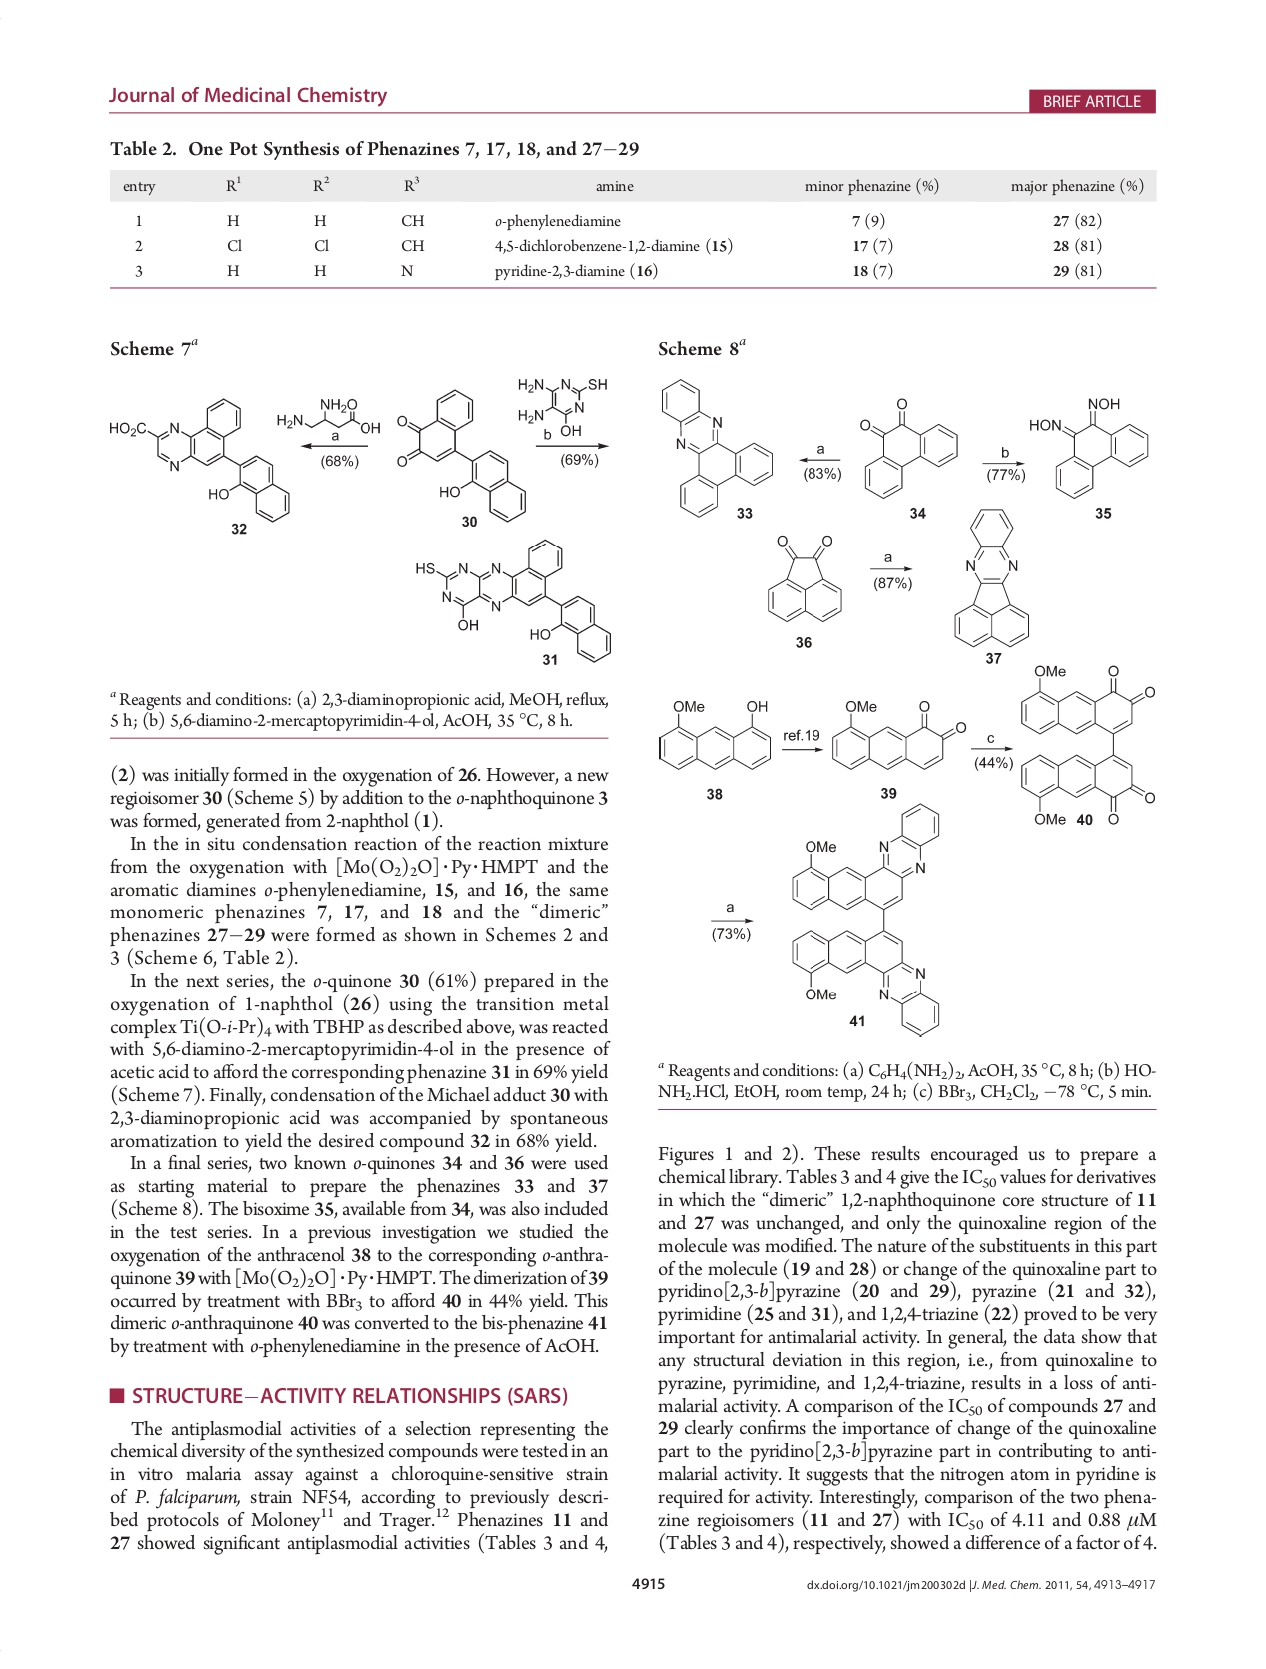exist_molecular: (790, 801, 946, 1041), (414, 535, 613, 666), (1015, 662, 1158, 829), (108, 396, 290, 524), (396, 387, 529, 524), (658, 374, 774, 519), (1027, 394, 1152, 501), (951, 505, 1035, 648), (826, 693, 969, 775), (855, 394, 961, 500), (650, 696, 775, 777), (761, 531, 851, 626), (515, 372, 609, 438), (274, 394, 383, 434)
